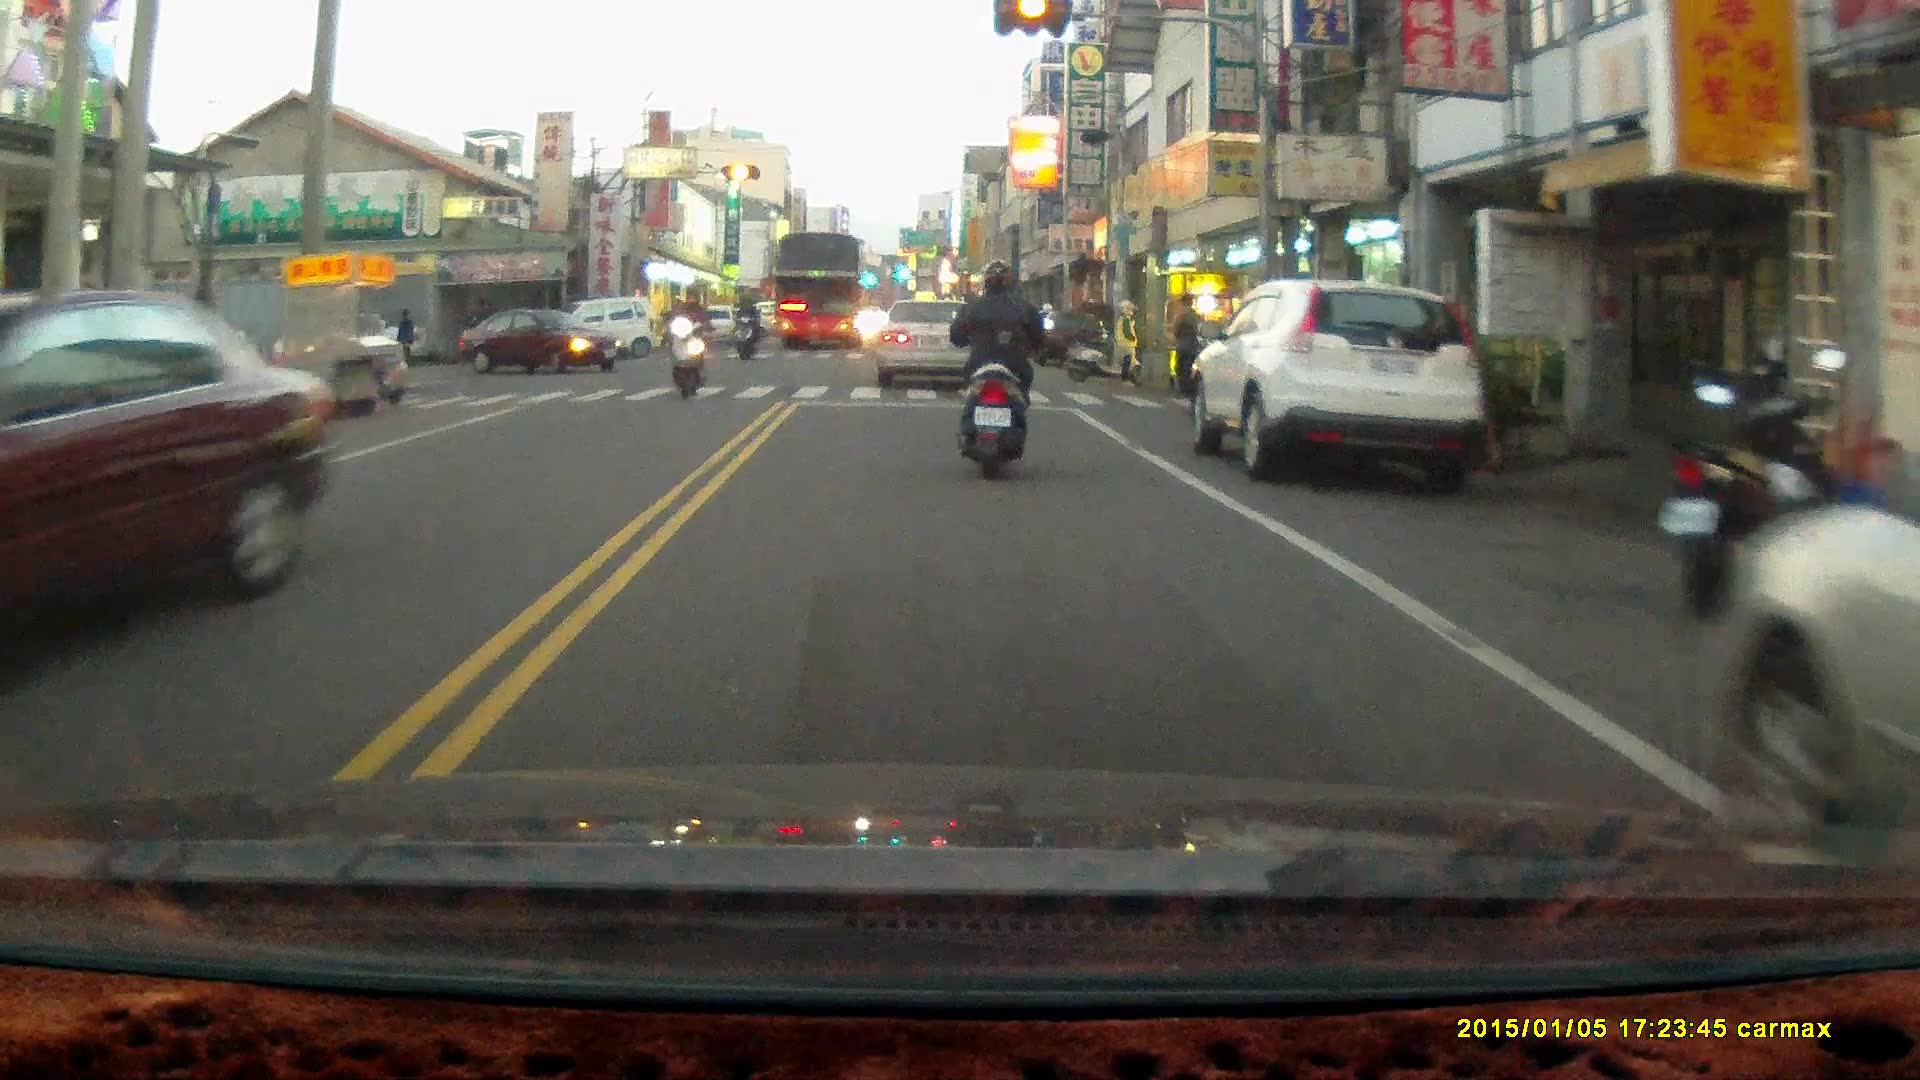pedestrian: (1171, 291, 1202, 396), (1113, 296, 1145, 386), (393, 304, 415, 367)
rider: (948, 256, 1043, 481), (664, 281, 712, 400), (733, 289, 757, 357)
vehicle: (1, 287, 331, 686), (1710, 465, 1920, 862), (1191, 278, 1484, 481), (764, 232, 869, 348), (468, 306, 620, 381), (874, 298, 984, 389)
